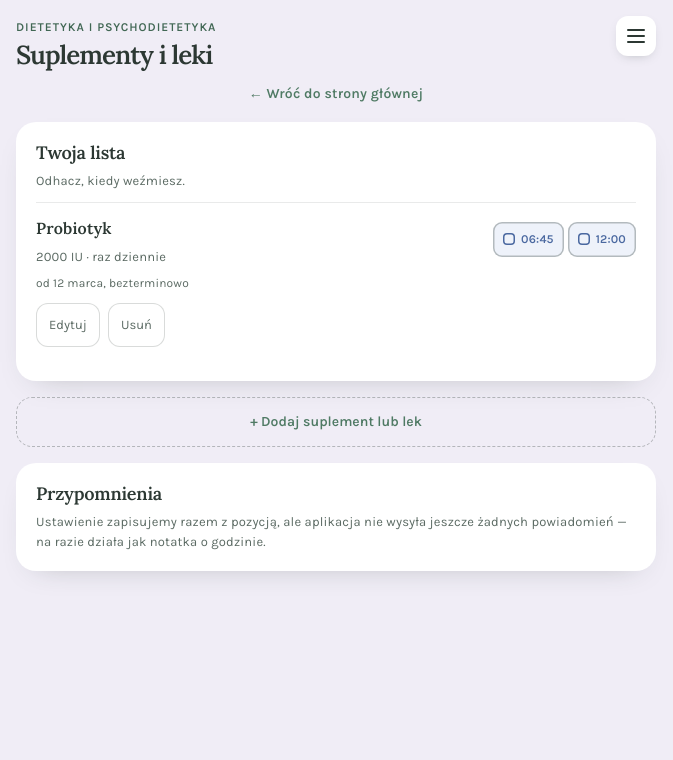
it: several hours for one preparation › opens an edit with every hour the preparation has
What coordinates should you click on to do the following:
click the button "Edytuj"
I would click on:
 (68, 325)
Its box is top-left (36, 303), bottom-right (100, 347).
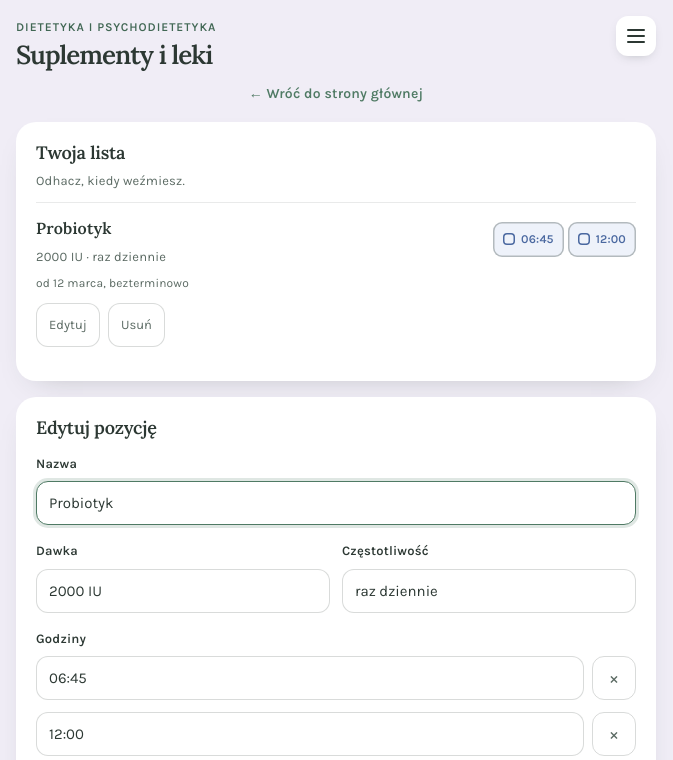
Expected: the 1st field named "Godzina 1" holds "06:45", top-left (36, 656), bottom-right (584, 700)
Expected: the 2nd field named "Godzina 2" holds "12:00", top-left (36, 712), bottom-right (584, 756)
